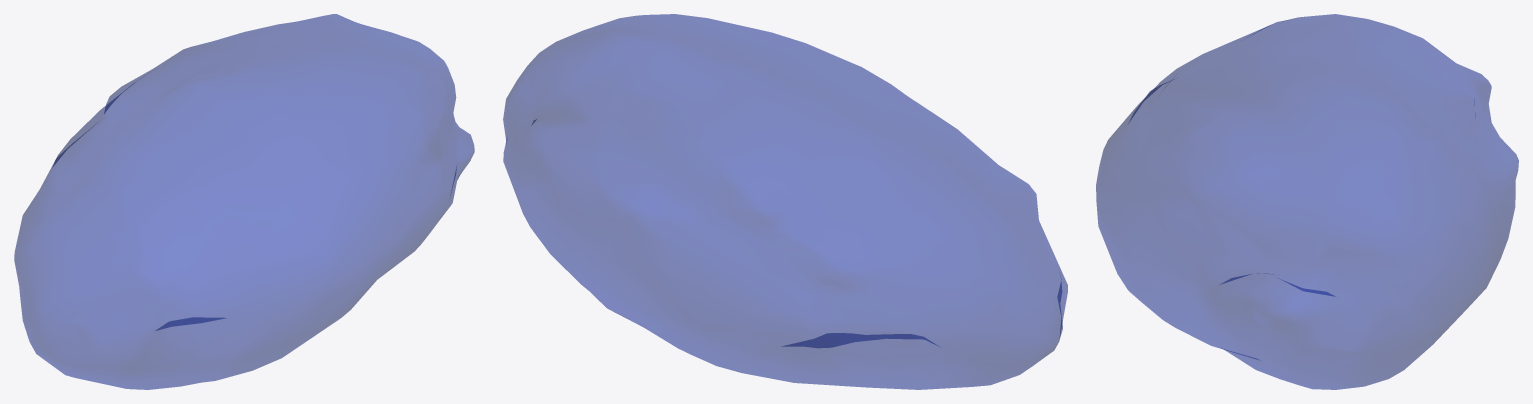
File: nucleus-3.obj
The picture shows the model from 3 angles, left to right: view 1: azimuth 30°, elevation 25°; view 2: azimuth 150°, elevation 25°; view 3: azimuth 270°, elevation 25°; orthographic projection. The views are drawn at different scales.
Parts seen in each view (by area): view 1: duplicate_nucleus_3.015; view 2: duplicate_nucleus_3.015; view 3: duplicate_nucleus_3.015.
Boxes of the visible parts, box(x1,y1,x2,y2) form: duplicate_nucleus_3.015: box(14, 14, 474, 389); duplicate_nucleus_3.015: box(503, 14, 1067, 389); duplicate_nucleus_3.015: box(1096, 14, 1518, 389).
Bounding box in the file's own units: 0.8135 × 0.4661 × 0.539.
